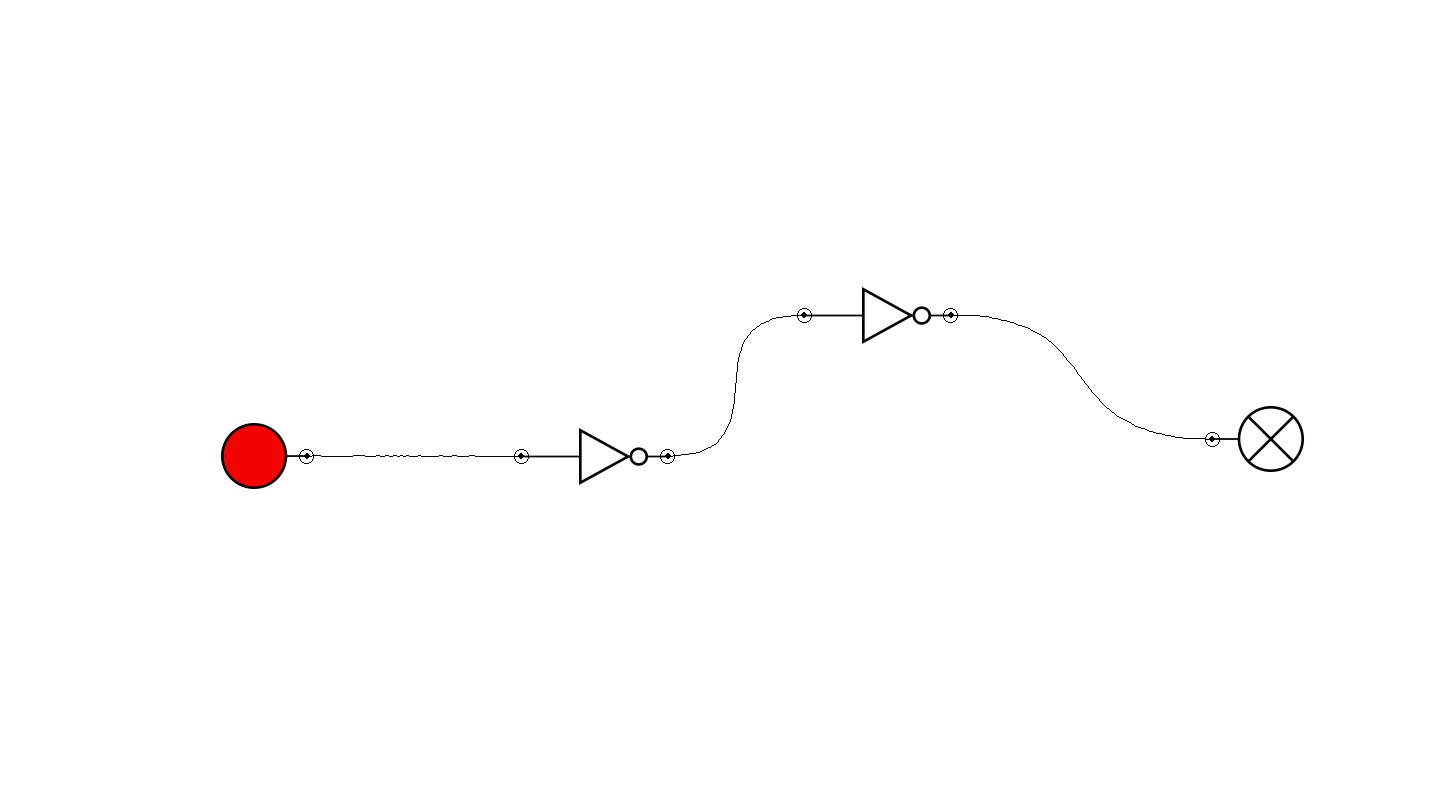bulb: (1205, 406, 1304, 472)
not: (797, 287, 958, 344), (514, 428, 675, 485)
switch_False: (221, 423, 314, 489)
